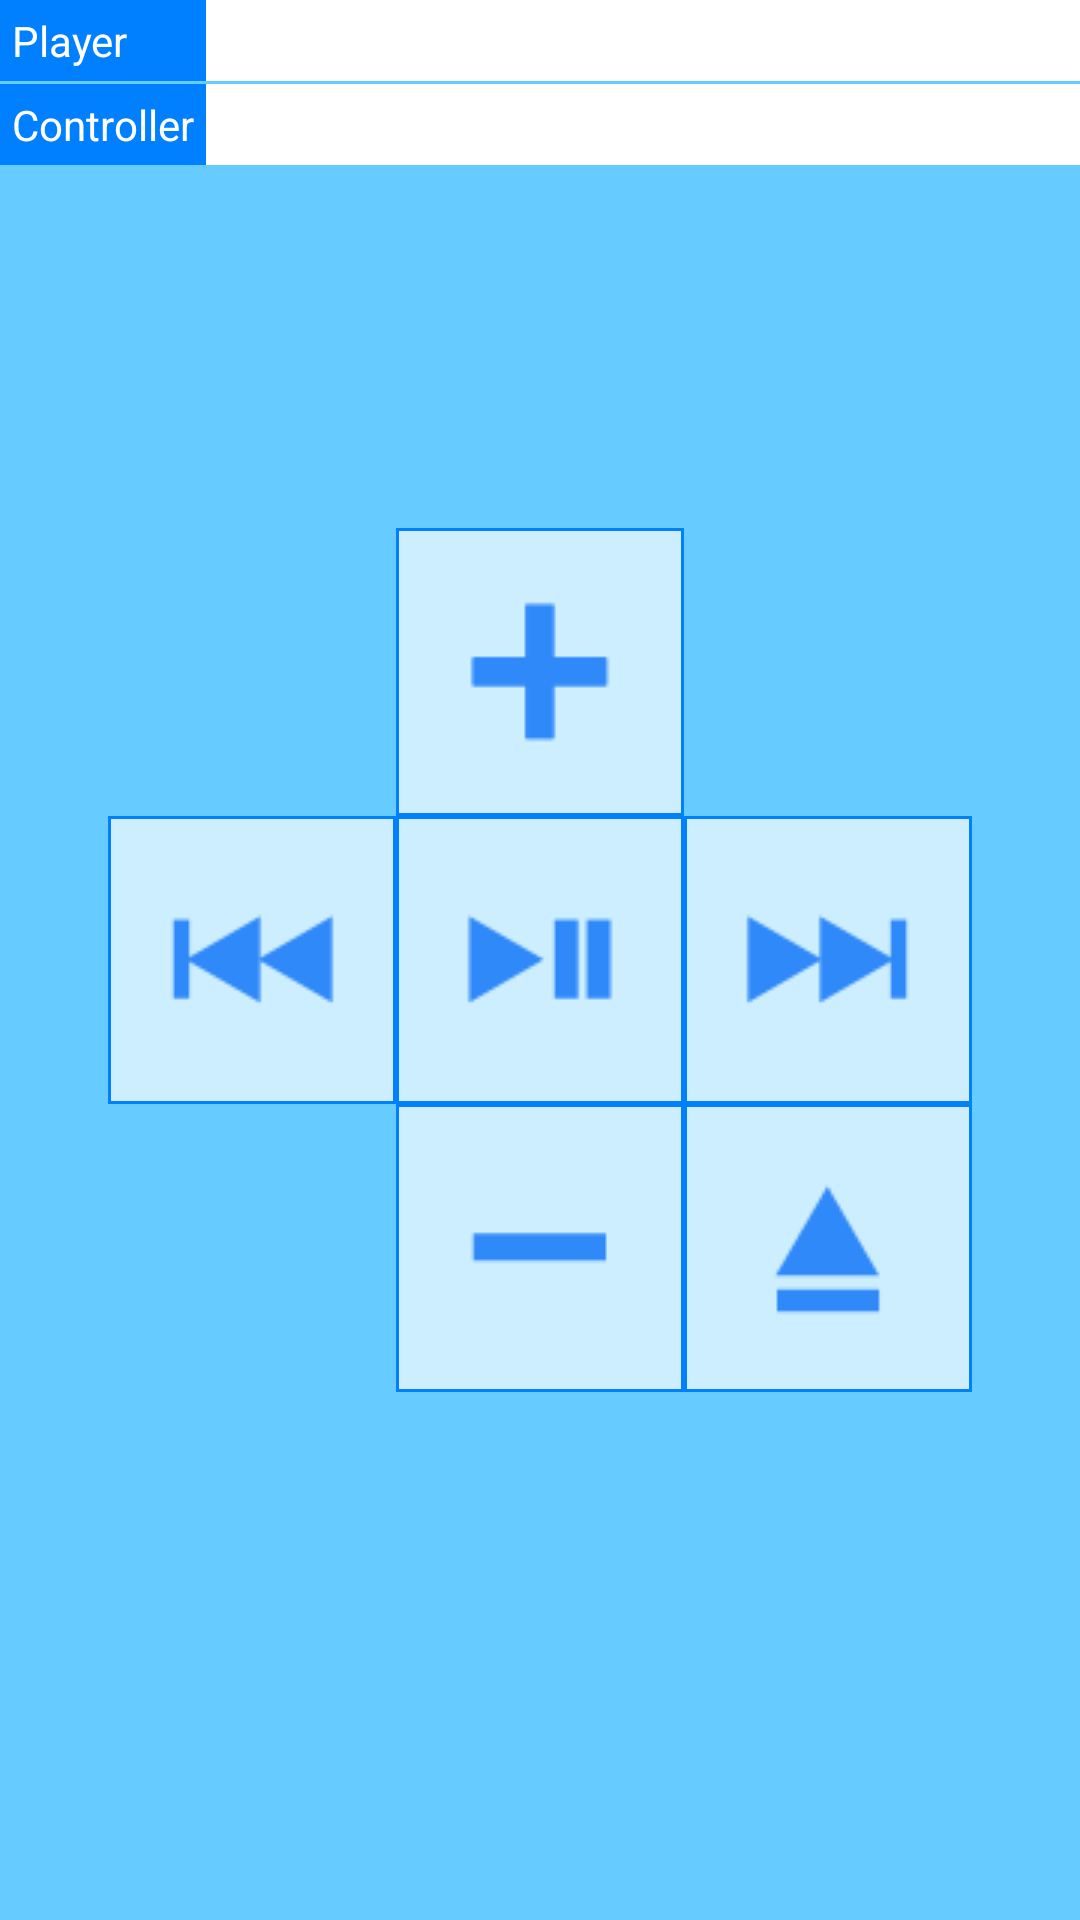

Point at icon controls on the screen. Image size 1080 x 1920, points as [x,y].
eject: [828,1248]
forward: [828,960]
minus: [540,1248]
play pause: [540,960]
plus: [540,672]
rewind: [252,960]
